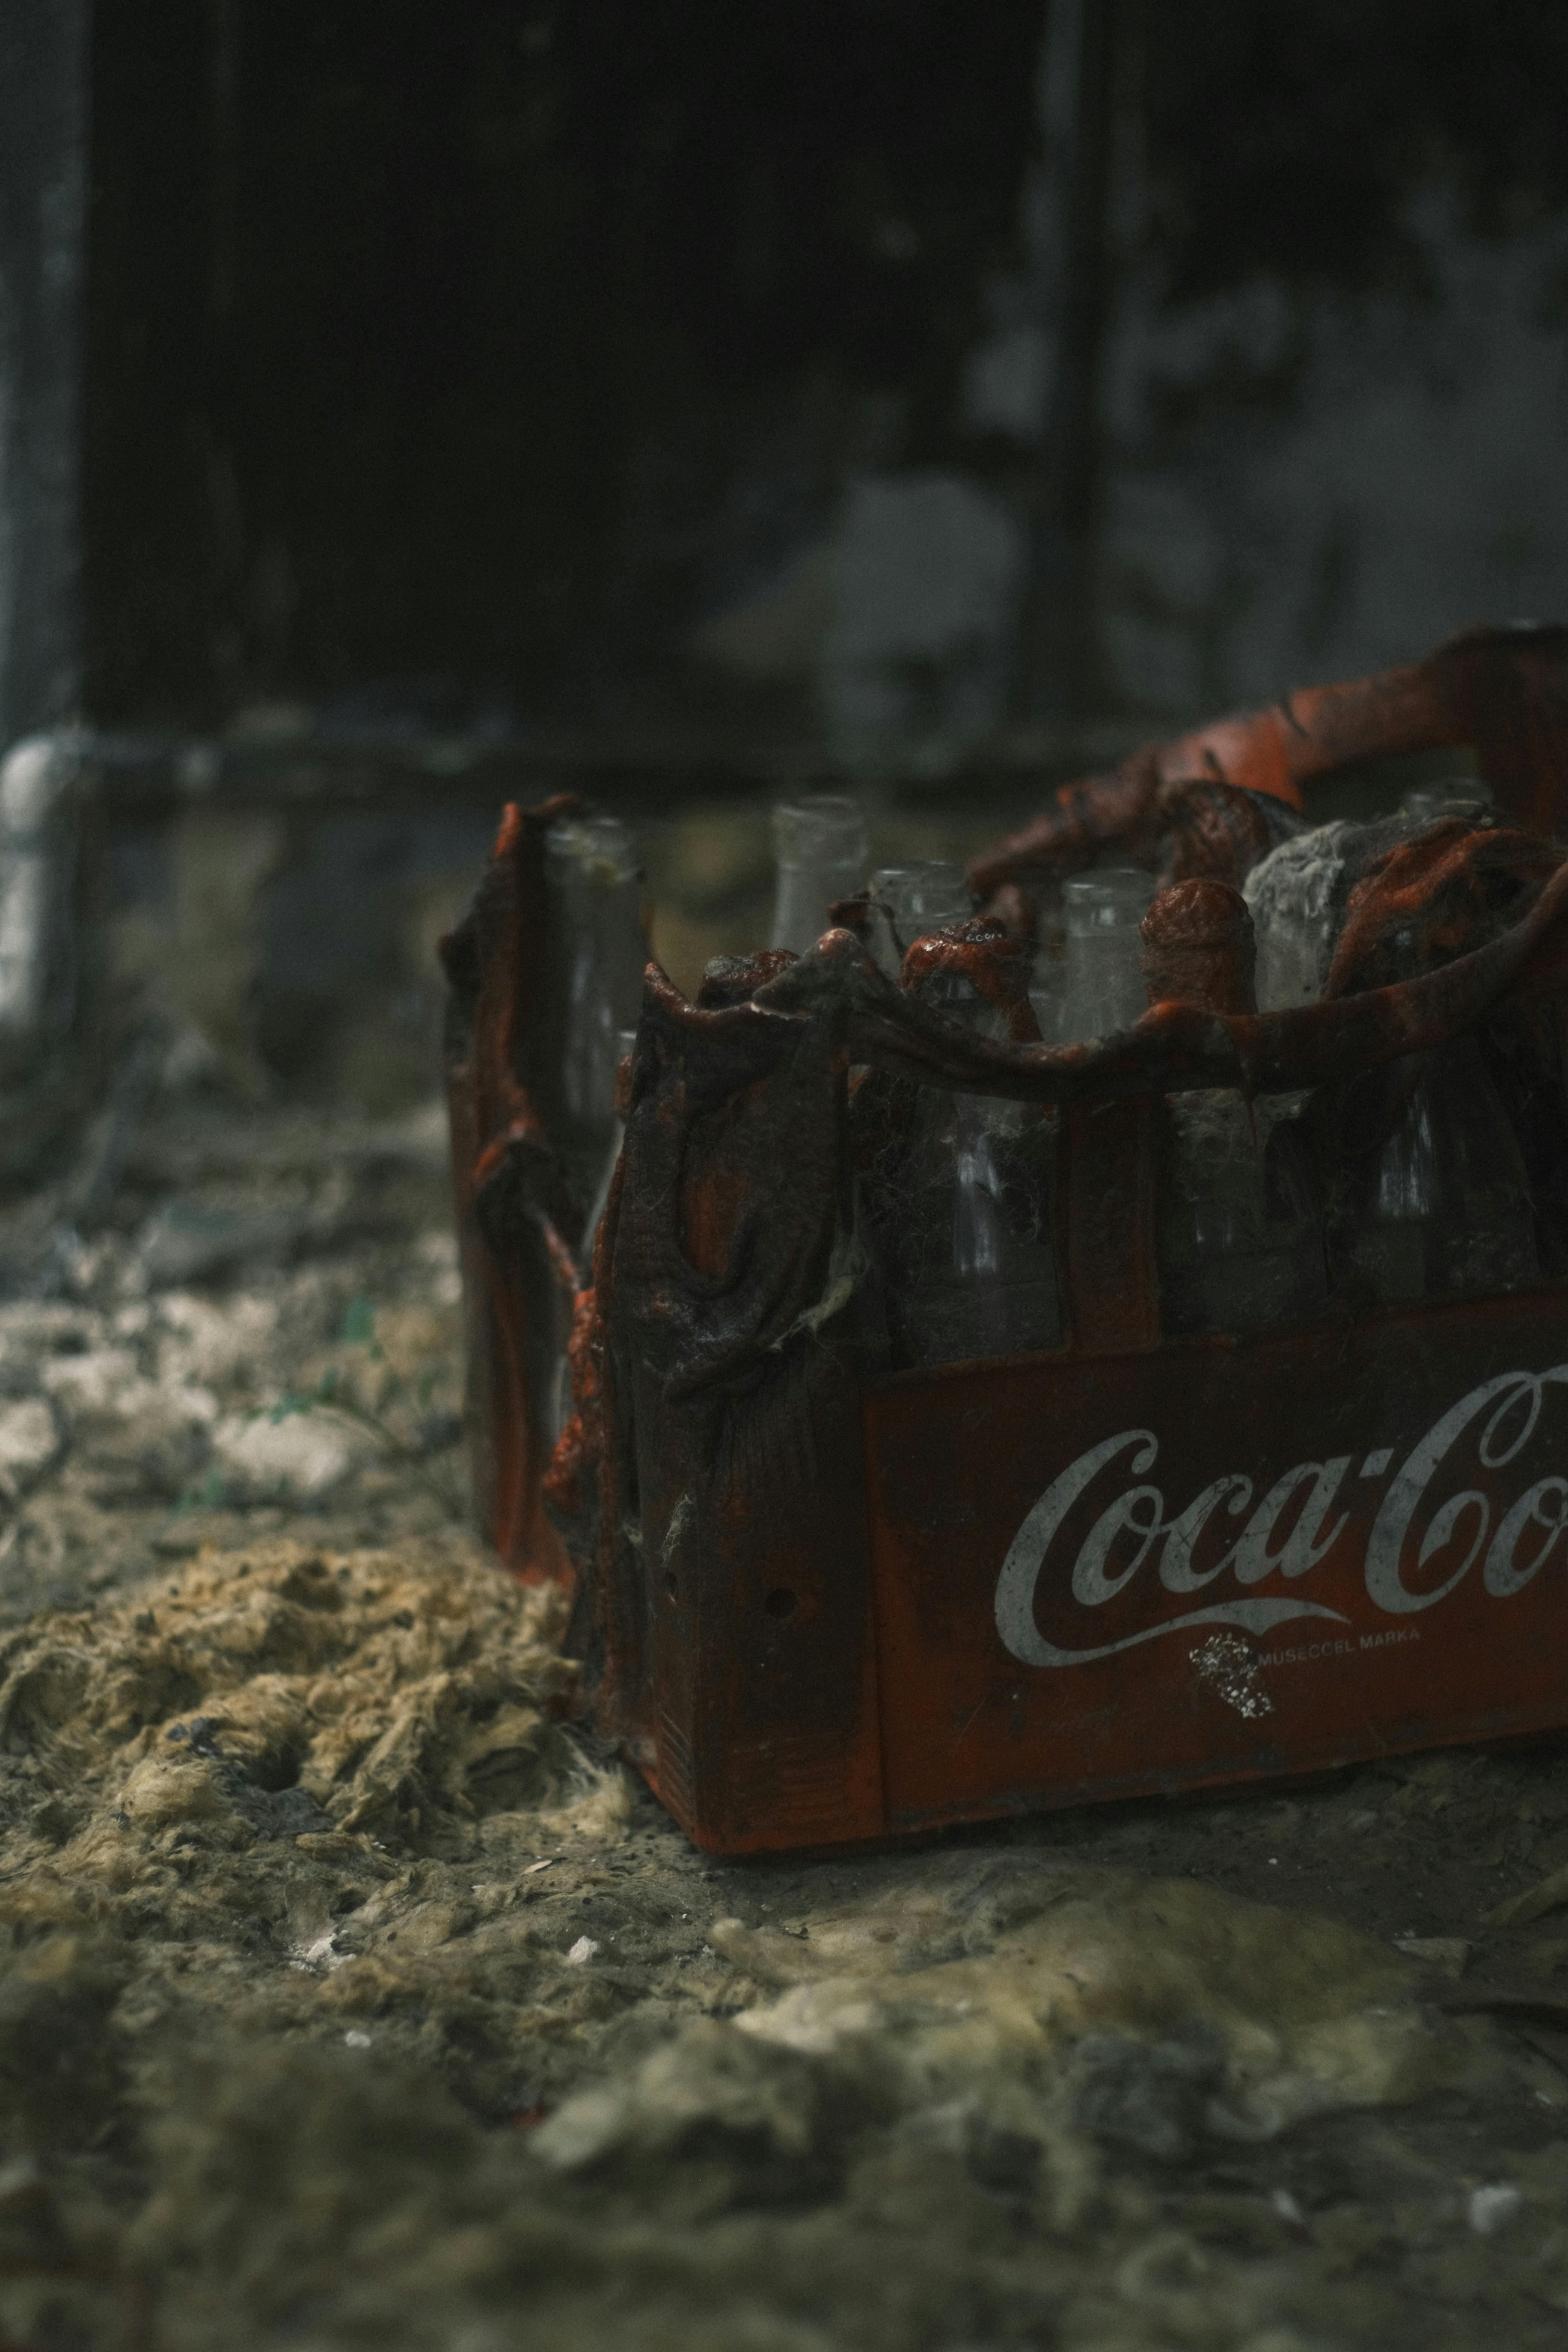glass: (502, 810, 649, 1480), (875, 863, 1054, 1367), (1150, 852, 1312, 1337), (1327, 840, 1475, 1302), (749, 803, 880, 1304), (765, 791, 872, 964)
